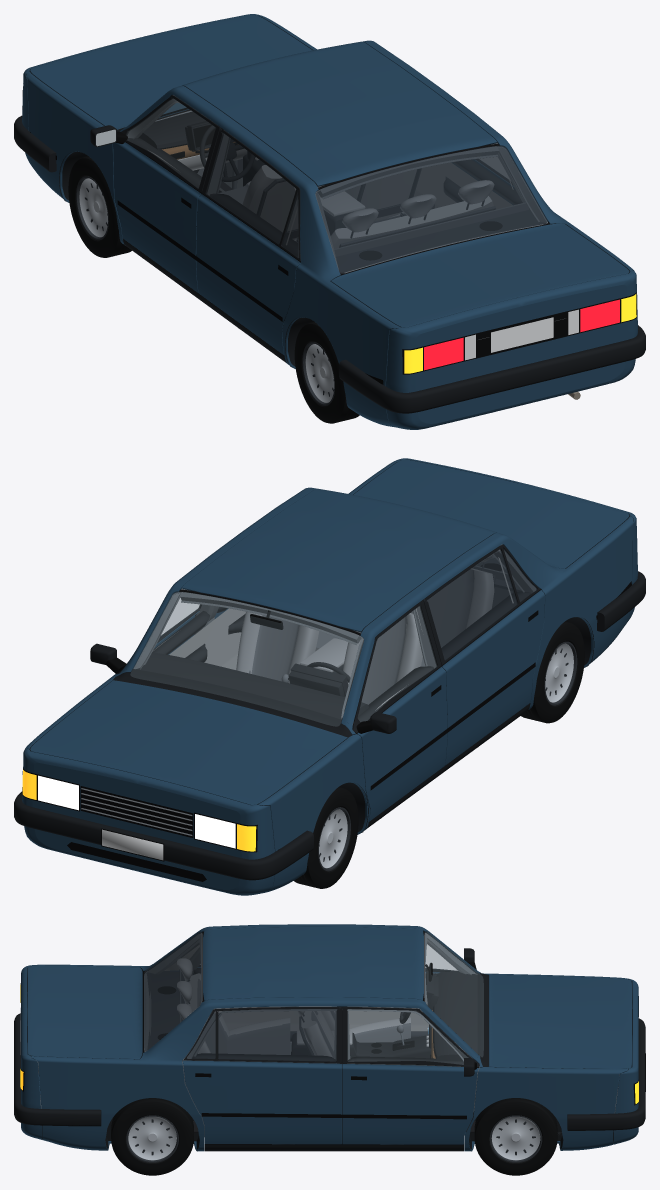
File: car.glb
3 renders of one model, top to bottom at view 1: azimuth 30°, elevation 25°; view 2: azimuth 150°, elevation 25°; view 3: azimuth 270°, elevation 25°, orthographic. The views are drawn at different scales.
Parts seen in each view (by area): view 1: Glass, Panel_Roof, Panel_Trunk, Panel_SideOuter, Panel_Hood, Panel_TailCap, Panel_DoorR, Bumpers, Panel_DoorF, BIW, Panel_BumperR, Panel_Fender (+25 smaller); view 2: Glass, Panel_Roof, Panel_Hood, Panel_SideOuter, Panel_Trunk, Panel_DoorR, Panel_DoorF, Panel_NoseCap, Bumpers, Panel_Fender, Seams, Panel_BumperF (+23 smaller); view 3: Glass, Panel_Roof, Panel_SideOuter, Panel_Hood, Panel_DoorR, Panel_Trunk, Panel_DoorF, Panel_Fender, Wheel_FR, Wheel_RR, Bumpers, BIW (+20 smaller).
Part boxes in pixels (<box>): Glass: <box>127,99,547,272</box>; Panel_Roof: <box>182,41,497,186</box>; Panel_Trunk: <box>331,223,629,327</box>; Panel_SideOuter: <box>119,40,633,427</box>; Panel_Hood: <box>30,15,312,129</box>; Panel_TailCap: <box>415,285,628,423</box>; Panel_DoorR: <box>196,159,515,355</box>; Bumpers: <box>14,115,645,413</box>; Panel_DoorF: <box>113,142,201,292</box>; BIW: <box>127,95,565,339</box>; Panel_BumperR: <box>386,270,637,429</box>; Panel_Fender: <box>26,15,316,245</box>; Glass: <box>130,549,536,726</box>; Panel_Roof: <box>182,488,496,632</box>; Panel_Hood: <box>30,680,347,805</box>; Panel_SideOuter: <box>115,460,633,734</box>; Panel_Trunk: <box>353,459,629,568</box>; Panel_DoorR: <box>214,590,544,765</box>; Panel_DoorF: <box>114,611,447,821</box>; Panel_NoseCap: <box>32,762,241,889</box>; Bumpers: <box>14,571,645,880</box>; Panel_Fender: <box>26,675,370,892</box>; Seams: <box>22,581,631,881</box>; Panel_BumperF: <box>22,747,274,895</box>; Glass: <box>144,932,483,1066</box>; Panel_Roof: <box>203,927,423,1000</box>; Panel_SideOuter: <box>31,924,482,1151</box>; Panel_Hood: <box>488,974,631,1068</box>; Panel_DoorR: <box>183,967,341,1144</box>; Panel_Trunk: <box>27,965,142,1059</box>; Panel_DoorF: <box>342,972,478,1144</box>; Panel_Fender: <box>464,973,628,1151</box>; Wheel_FR: <box>474,1098,557,1175</box>; Wheel_RR: <box>111,1098,193,1175</box>; Bumpers: <box>14,1013,645,1130</box>; BIW: <box>20,933,619,1136</box>.
Size of the model in its own units: 2.16 by 1.45 by 4.87.
